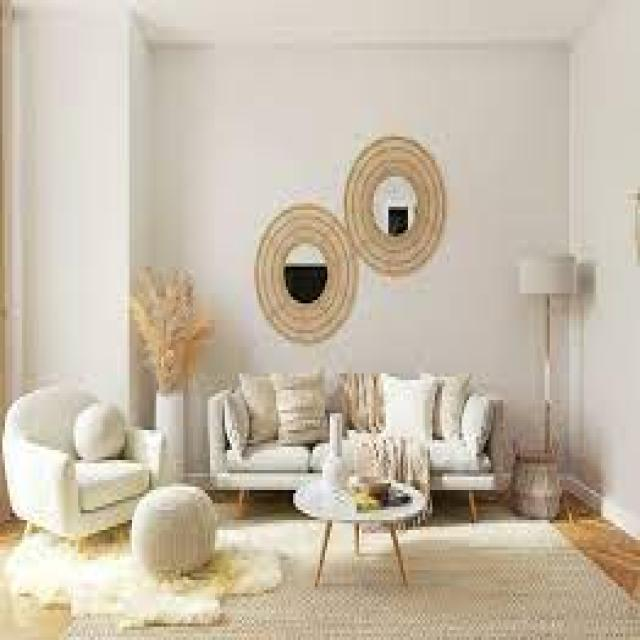Chair: (4, 374, 161, 540)
Lamp: (518, 251, 581, 488)
Sofa: (212, 370, 507, 525)
Table: (296, 477, 431, 588)
